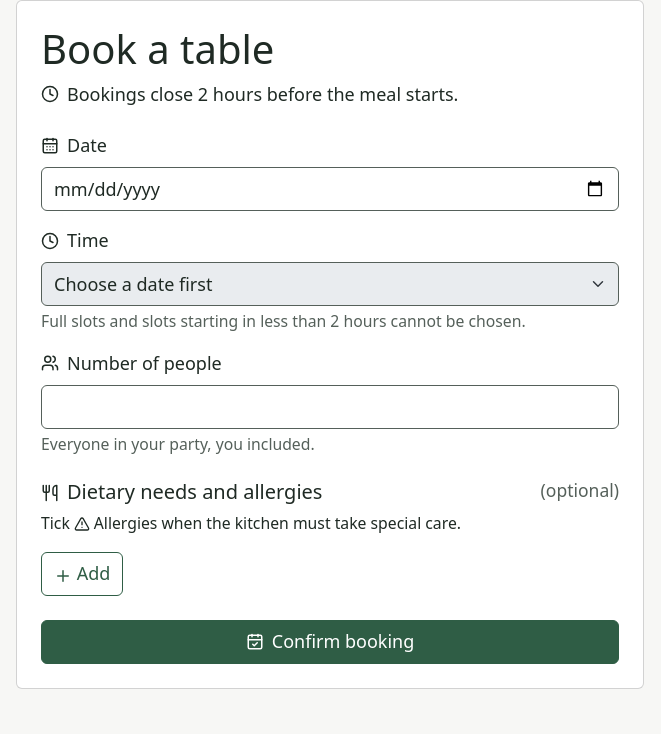
Test: BookPage › shows a 409 "Not enough seats available for this party" under Time and focuses it
This screenshot has width=661, height=734.
Check: the heading "Book a table" is shown, box x1=41 y1=21 x2=274 y2=76
Step 1. Type "2026-11-06" into the date field labelled "Date" → (330, 189), box x1=41 y1=167 x2=619 y2=211
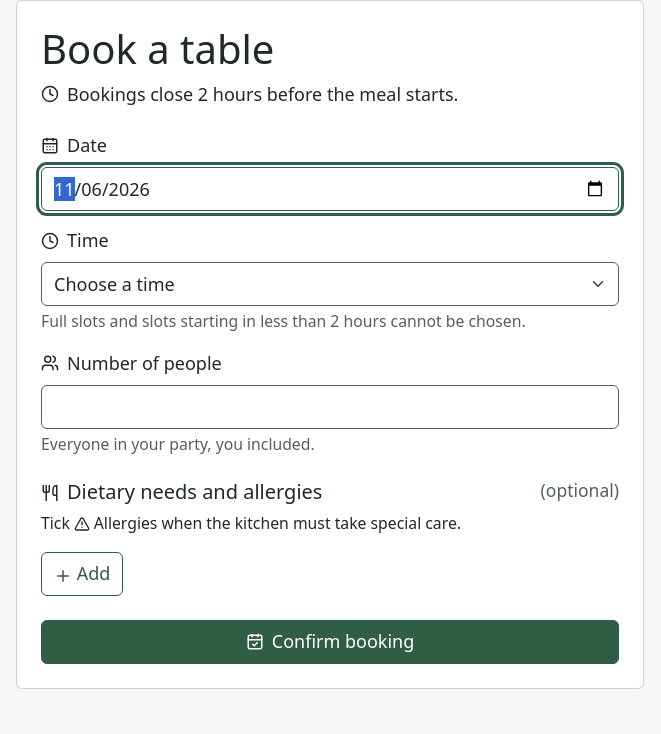
Check: the dropdown labelled "Time" is enabled
Step 2. Select "Lunch, 12:00 – 14:00" in the dropdown labelled "Time" → (330, 284), box x1=41 y1=262 x2=619 y2=306
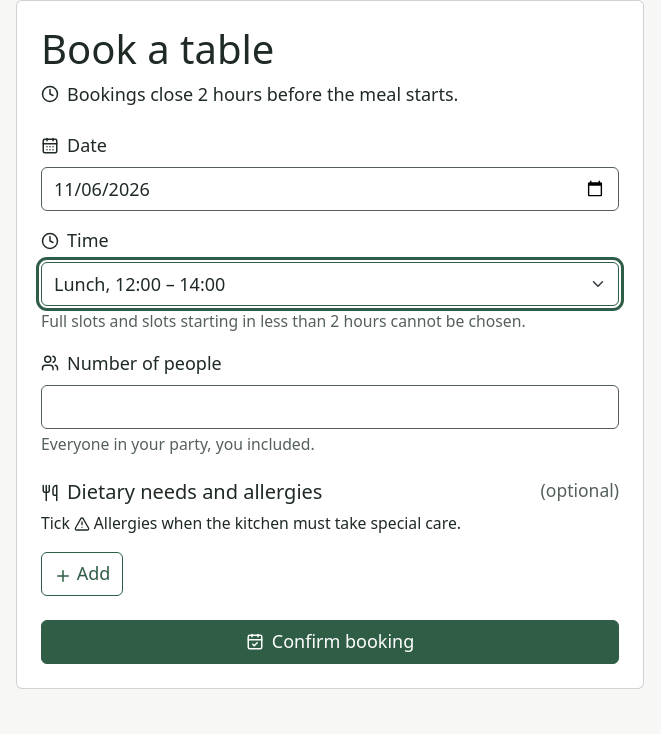
Step 3. Type "3" into the number field labelled "Number of people" → (330, 407), box x1=41 y1=385 x2=619 y2=429
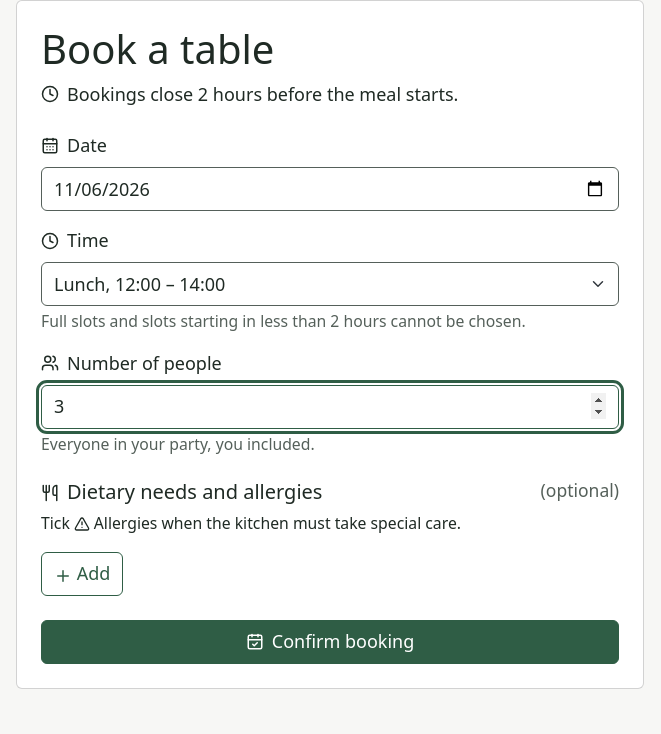
Step 4. Click the button "Confirm booking" → (330, 642), box x1=41 y1=620 x2=619 y2=664
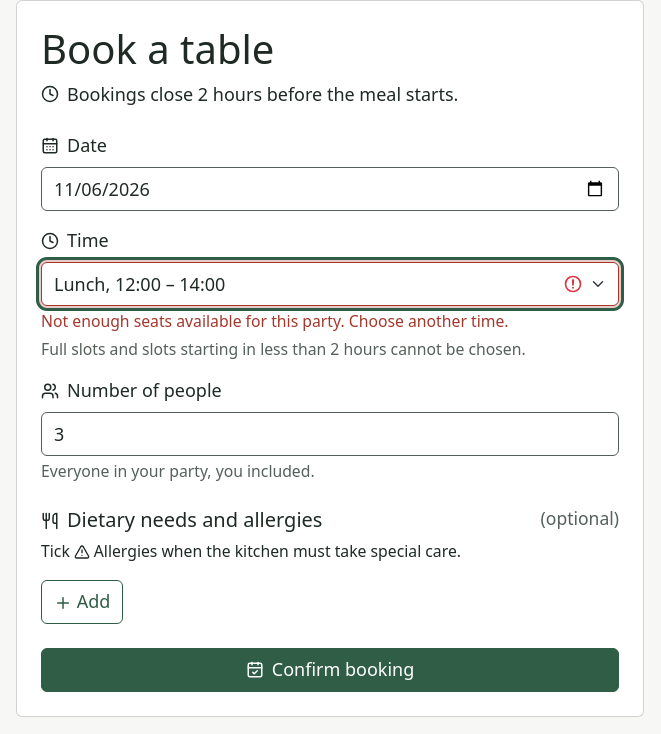
Check: the heading "Book a table" is shown, box x1=41 y1=21 x2=274 y2=76
Check: the text "Not enough seats available for this party. Choose another time." is shown, box x1=41 y1=310 x2=509 y2=332
